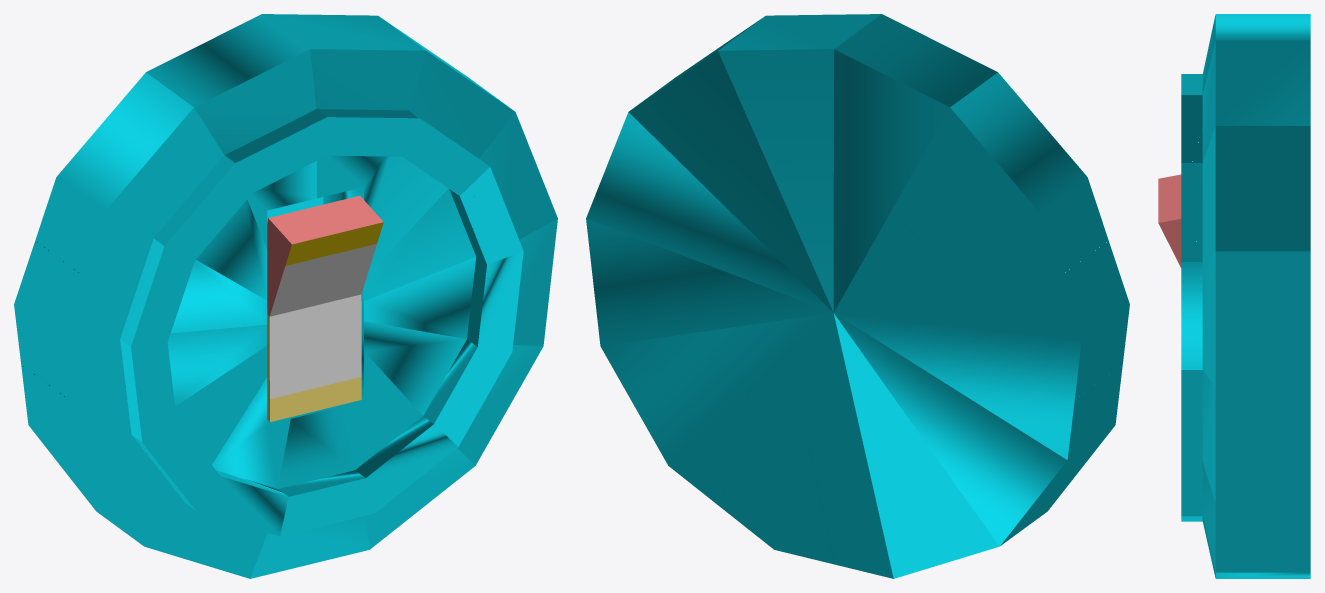
The model's file is LXHSwitch.fbx.
3 views of the same model, side by side, from view 1: azimuth 30°, elevation 25°; view 2: azimuth 150°, elevation 25°; view 3: azimuth 270°, elevation 25° (orthographic).
Visible parts, largest first — view 1: base, switch; view 2: base; view 3: base, switch.
Boxes of the visible parts, bbox=[...] form: base: bbox=[14, 14, 557, 578]; switch: bbox=[267, 195, 383, 421]; base: bbox=[586, 14, 1129, 578]; base: bbox=[1181, 14, 1310, 578]; switch: bbox=[1158, 174, 1181, 267].
Size of the model in its own units: 19.05 by 18.91 by 5.12.
